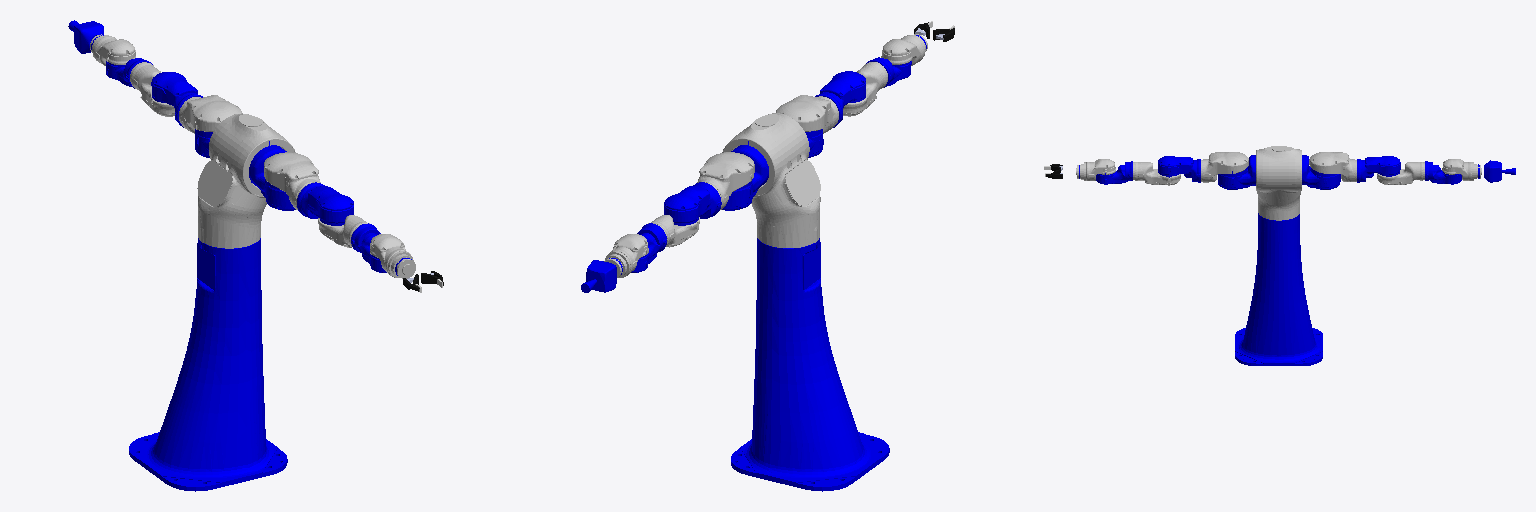
--- Render facts (derived) ---
Views: 3 orthographic renders of the robot side by side, from view 1: azimuth 30°, elevation 25°; view 2: azimuth 150°, elevation 25°; view 3: azimuth 270°, elevation 25°.
Robot: sda10f — 34 links, 33 joints (15 revolute, 18 fixed); root link base; default pose: every joint at zero.
Visible links, largest first — view 1: base_link, torso_link_b1, arm_right_link_2_l, arm_right_link_3_e, arm_left_link_2_l, arm_right_link_6_b, arm_left_link_3_e, arm_right_link_1_s, arm_left_link_6_b, arm_left_link_4_u, arm_right_link_5_r, arm_right_link_4_u (+2 smaller); view 2: base_link, torso_link_b1, arm_left_link_2_l, arm_left_link_3_e, arm_right_link_2_l, arm_right_link_3_e, arm_left_link_1_s, arm_left_link_6_b, arm_right_link_6_b, arm_right_link_4_u, arm_left_link_5_r, onrobot_vgc10_base_link (+2 smaller); view 3: base_link, torso_link_b1, arm_right_link_2_l, arm_left_link_2_l, arm_left_link_3_e, arm_right_link_3_e, arm_left_link_1_s, arm_right_link_1_s, arm_right_link_4_u, arm_left_link_4_u, arm_right_link_6_b, arm_left_link_6_b.
Boxes of the visible links, box(x1,y1,x2,y2) form: base_link: box(129, 238, 287, 491); torso_link_b1: box(197, 113, 295, 248); arm_right_link_2_l: box(264, 152, 320, 209); arm_right_link_3_e: box(297, 182, 353, 225); arm_left_link_2_l: box(179, 95, 241, 133); arm_right_link_6_b: box(370, 234, 415, 278); arm_left_link_3_e: box(151, 72, 202, 127); arm_right_link_1_s: box(249, 141, 295, 210); arm_left_link_6_b: box(90, 34, 135, 65); arm_left_link_4_u: box(130, 62, 174, 116); arm_right_link_5_r: box(351, 223, 386, 272); arm_right_link_4_u: box(318, 215, 369, 247); base_link: box(731, 238, 889, 491); torso_link_b1: box(722, 113, 820, 247); arm_left_link_2_l: box(697, 152, 754, 209); arm_left_link_3_e: box(664, 182, 721, 225); arm_right_link_2_l: box(776, 95, 838, 133); arm_right_link_3_e: box(815, 71, 865, 127); arm_left_link_1_s: box(722, 141, 768, 210); arm_left_link_6_b: box(604, 234, 648, 277); arm_right_link_6_b: box(881, 34, 927, 65); arm_right_link_4_u: box(843, 62, 887, 116); arm_left_link_5_r: box(631, 223, 666, 272); onrobot_vgc10_base_link: box(586, 260, 616, 292); base_link: box(1235, 213, 1322, 365); torso_link_b1: box(1256, 146, 1301, 220); arm_right_link_2_l: box(1201, 152, 1248, 182); arm_left_link_2_l: box(1309, 152, 1356, 181); arm_left_link_3_e: box(1357, 156, 1400, 182); arm_right_link_3_e: box(1158, 156, 1200, 182); arm_left_link_1_s: box(1302, 155, 1340, 189); arm_right_link_1_s: box(1218, 155, 1255, 189); arm_right_link_4_u: box(1133, 162, 1180, 185); arm_left_link_4_u: box(1377, 162, 1424, 184); arm_right_link_6_b: box(1076, 159, 1115, 180); arm_left_link_6_b: box(1442, 159, 1481, 180).
Bounding box of the posed robot: 0.5648 × 2.67 × 1.34 m (x, y, z).
Meshes: 16 distinct files referenced, 26 mesh visuals loaded (15 binary STL); not drawn: 1 (reference not matched to a file when rendering).

robot.urdf — sda10f:
<?xml version="1.0" ?>
<!-- =================================================================================== -->
<!-- |    This document was autogenerated by xacro from sda10f_uni_kin_ref_kin_macro_newKin.xacro | -->
<!-- |    EDITING THIS FILE BY HAND IS NOT RECOMMENDED                                 | -->
<!-- =================================================================================== -->
<robot name="sda10f" xmlns:xacro="http://ros.org/wiki/xacro">
  <!-- link list -->
	<mujoco> <compiler meshdir="meshes" balanceinertia="true" discardvisual="false"/> </mujoco>

  <link name="base">
  </link>

  <joint name="base_joint" type="fixed">
    <parent link="base"/>
    <child link="base_link"/>
  </joint>

  <link name="base_link">
    <visual>
      <geometry>
        <mesh filename="motoman_config/updated_obj_urdf/sda10f_description/meshes/sda10f/visual/motoman_base.stl"/>
      </geometry>
      <material name="blue">
        <color rgba="0 0 1 1"/>
      </material>
    </visual>
    <collision>
      <geometry>
        <mesh filename="motoman_config/updated_obj_urdf/sda10f_description/meshes/sda10f/collision/motoman_base.stl"/>
      </geometry>
      <material name="yellow">
        <color rgba="0 1 1 1"/>
      </material>
    </collision>
    <inertial>
    <origin xyz="0.59411730 0.00220938 0.06245062"/>
    <mass value="0.11690470"/>
    <inertia ixx="0.00301106" ixy="-0.00000002" ixz="-0.00069198" iyy="0.00812166" iyz="0.00000006" izz="0.00804492"/>
    </inertial>
  </link>

  <!-- joint list -->
  <!-- <joint name="torso_joint_b1" type="revolute"> -->
  <joint name="torso_joint_b1" type="revolute">
    <parent link="base_link"/>
    <child link="torso_link_b1"/>
    <origin rpy="0 0 0" xyz="0.09257 0 0.877"/>
    <axis xyz="0 0 1"/>
    <limit effort="100" lower="-1.58" upper="1.58" velocity="2.26"/>
    <!-- <limit effort="100" lower="-2.9570" upper="2.9570" velocity="2.26"/> -->
    <!-- <limit effort="100" lower="-0.0001" upper="0.0001" velocity="2.26"/> -->
  </joint>
  <!-- end of joint list -->

  <link name="torso_link_b1">
    <visual>
      <origin rpy="0 0 0" xyz="0 0 0"/>
      <geometry>
        <mesh filename="motoman_config/updated_obj_urdf/sda10f_description/meshes/sda10f/visual/motoman_axis_b1.stl"/>
      </geometry>
      <material name="silver">
        <color rgba="0.8 0.8 0.8 1"/>
      </material>
    </visual>
    <collision>
      <origin rpy="0 0 0" xyz="0 0 0"/>
      <geometry>
        <mesh filename="motoman_config/updated_obj_urdf/sda10f_description/meshes/sda10f/collision/motoman_axis_b1_remeshed.stl"/>
        <!-- <mesh filename="sda10f_description/meshes/sda10f/collision/motoman_axis_b1.stl"/> -->
      </geometry>
      <material name="yellow"/>
    </collision>
    <inertial>
    <origin xyz="0.29769593 -0.00048507 0.07556016"/>
    <mass value="0.02557033"/>
    <inertia ixx="0.00027808" ixy="-0.00000000" ixz="-0.00009991" iyy="0.00050765" iyz="0.00000000" izz="0.00047731"/>
    </inertial>
  </link>

  <link name="arm_left_link_1_s">
    <visual>
      <origin rpy="0 0 0" xyz="0 0 0"/>
      <geometry>
        <mesh filename="motoman_config/updated_obj_urdf/sda10f_description/meshes/sda10f/visual/motoman_axis_s.stl"/>
        <!-- <mesh filename="sda10f_description/meshes/sda10f/visual/motoman_axis_s.stl"/> -->
      </geometry>
      <material name="blue"/>
      <!-- <material name="blue">
        <color rgba="0.65 0.65 0.65 1"/>
      </material> -->
    </visual>
    <collision>
      <origin rpy="0 0 0" xyz="0 0 0"/>
      <geometry>
        <mesh filename="motoman_config/updated_obj_urdf/sda10f_description/meshes/sda10f/collision/motoman_axis_s.stl"/>
        <!-- <mesh filename="sda10f_description/meshes/sda10f/collision/motoman_axis_s.stl"/> -->
      </geometry>
      <material name="yellow"/>
    </collision>
    <inertial>
    <origin xyz="-0.19899234 -0.05062831 -0.00088638"/>
    <mass value="0.00736469"/>
    <inertia ixx="0.00002919" ixy="-0.00000467" ixz="-0.00000000" iyy="0.00006572" iyz="0.00000002" izz="0.00006631"/>
    </inertial>
  </link>
  <link name="arm_left_link_2_l">
    <visual>
      <origin rpy="0 0 0" xyz="0 0 0"/>
      <geometry>
        <mesh filename="motoman_config/updated_obj_urdf/sda10f_description/meshes/sda10f/visual/motoman_axis_l.stl"/>
        <!-- <mesh filename="sda10f_description/meshes/sda10f/visual/motoman_axis_l.stl"/> -->
      </geometry>
      <material name="silver"/>
    </visual>
    <collision>
      <origin rpy="0 0 0" xyz="0 0 0"/>
      <geometry>
        <mesh filename="motoman_config/updated_obj_urdf/sda10f_description/meshes/sda10f/collision/motoman_axis_l.stl"/>
        <!-- <mesh filename="sda10f_description/meshes/sda10f/collision/motoman_axis_l.stl"/> -->
      </geometry>
      <material name="yellow"/>
    </collision>
    <inertial>
    <origin xyz="0.00687143 0.01345170 0.00026218"/>
    <mass value="0.00447593"/>
    <inertia ixx="0.00003199" ixy="0.00000585" ixz="-0.00000000" iyy="0.00001378" iyz="0.00000000" izz="0.00003068"/>
    </inertial>
  </link>
  <link name="arm_left_link_3_e">
    <visual>
      <origin rpy="0 0 0" xyz="0 0 0"/>
      <geometry>
        <mesh filename="motoman_config/updated_obj_urdf/sda10f_description/meshes/sda10f/visual/motoman_axis_e.stl"/>
        <!-- <mesh filename="sda10f_description/meshes/sda10f/visual/motoman_axis_e.stl"/> -->
      </geometry>
      <material name="blue"/>
    </visual>
    <collision>
      <origin rpy="0 0 0" xyz="0 0 0"/>
      <geometry>
        <mesh filename="motoman_config/updated_obj_urdf/sda10f_description/meshes/sda10f/collision/motoman_axis_e.stl"/>
        <!-- <mesh filename="sda10f_description/meshes/sda10f/collision/motoman_axis_e.stl"/> -->
      </geometry>
      <material name="yellow"/>
    </collision>
    <inertial>
    <origin xyz="-0.14699799 0.03928457 -0.00115009"/>
    <mass value="0.00344203"/>
    <inertia ixx="0.00000816" ixy="0.00000154" ixz="-0.00000000" iyy="0.00001912" iyz="0.00000000" izz="0.00001927"/>
    </inertial>
  </link>
  <link name="arm_left_link_4_u">
    <visual>
      <origin rpy="0 0 0" xyz="0 0 0"/>
      <geometry>
        <mesh filename="motoman_config/updated_obj_urdf/sda10f_description/meshes/sda10f/visual/motoman_axis_u.stl"/>
        <!-- <mesh filename="sda10f_description/meshes/sda10f/visual/motoman_axis_u.stl"/> -->
      </geometry>
      <material name="silver"/>
    </visual>
    <collision>
      <origin rpy="0 0 0" xyz="0 0 0"/>
      <geometry>
        <mesh filename="motoman_config/updated_obj_urdf/sda10f_description/meshes/sda10f/collision/motoman_axis_u.stl"/>
        <!-- <mesh filename="sda10f_description/meshes/sda10f/collision/motoman_axis_u.stl"/> -->
      </geometry>
      <material name="yellow"/>
    </collision>
    <inertial>
    <origin xyz="-0.01491214 0.04719666 -0.00082991"/>
    <mass value="0.00301532"/>
    <inertia ixx="0.00002075" ixy="-0.00000241" ixz="0.00000001" iyy="0.00000557" iyz="-0.00000003" izz="0.00002043"/>
    </inertial>
  </link>
  <link name="arm_left_link_5_r">
    <visual>
      <origin rpy="0 0 0" xyz="0 0 0"/>
      <geometry>
        <mesh filename="motoman_config/updated_obj_urdf/sda10f_description/meshes/sda10f/visual/motoman_axis_r.stl"/>
        <!-- <mesh filename="sda10f_description/meshes/sda10f/visual/motoman_axis_r.stl"/> -->
      </geometry>
      <material name="blue"/>
    </visual>
    <collision>
      <origin rpy="0 0 0" xyz="0 0 0"/>
      <geometry>
        <mesh filename="motoman_config/updated_obj_urdf/sda10f_description/meshes/sda10f/collision/motoman_axis_r.stl"/>
        <!-- <mesh filename="sda10f_description/meshes/sda10f/collision/motoman_axis_r.stl"/> -->
      </geometry>
      <material name="yellow"/>
    </collision>
    <inertial>
    <origin xyz="-0.11762401 -0.03128507 -0.00026296"/>
    <mass value="0.00213955"/>
    <inertia ixx="0.00000371" ixy="-0.00000072" ixz="-0.00000002" iyy="0.00000856" iyz="-0.00000001" izz="0.00000873"/>
    </inertial>
  </link>
  <link name="arm_left_link_6_b">
    <visual>
      <origin rpy="0 0 0" xyz="0 0 0"/>
      <geometry>
        <mesh filename="motoman_config/updated_obj_urdf/sda10f_description/meshes/sda10f/visual/motoman_axis_b.stl"/>
        <!-- <mesh filename="sda10f_description/meshes/sda10f/visual/motoman_axis_b.stl"/> -->
      </geometry>
      <material name="silver"/>
    </visual>
    <collision>
      <origin rpy="0 0 0" xyz="0 0 0"/>
      <geometry>
        <mesh filename="motoman_config/updated_obj_urdf/sda10f_description/meshes/sda10f/collision/motoman_axis_b_remeshed.stl"/>
        <!-- <mesh filename="sda10f_description/meshes/sda10f/collision/motoman_axis_b.stl"/> -->
      </geometry>
      <material name="yellow"/>
    </collision>
    <inertial>
    <origin xyz="0.01254451 0.02357485 -0.00200508"/>
    <mass value="0.00182883"/>
    <inertia ixx="0.00000703" ixy="0.00000103" ixz="0.00000000" iyy="0.00000281" iyz="-0.00000000" izz="0.00000709"/>
    </inertial>
  </link>
  <link name="arm_left_link_7_t">
    <visual>
      <geometry>
        <mesh filename="motoman_config/updated_obj_urdf/sda10f_description/meshes/sda10f/visual/motoman_axis_t.stl"/>
        <!-- <mesh filename="sda10f_description/meshes/sda10f/visual/motoman_axis_t.stl"/> -->
      </geometry>
      <material name="blue"/>
    </visual>
    <collision>
      <geometry>
        <mesh filename="motoman_config/updated_obj_urdf/sda10f_description/meshes/sda10f/collision/motoman_axis_t.stl"/>
        <!-- <mesh filename="sda10f_description/meshes/sda10f/collision/motoman_axis_t.stl"/> -->
      </geometry>
      <material name="yellow"/>
    </collision>
  </link>
  <link name="arm_left_link_tool0"/>

  <joint name="arm_left_joint_1_s" type="revolute">
    <parent link="torso_link_b1"/>
    <child link="arm_left_link_1_s"/>
     <origin rpy="1.57 0 0.0" xyz="0.09996 0.0375 0.32214"/>
    <axis xyz="0 0 -1.0"/>
    <limit effort="0" lower="-3.13" upper="3.13" velocity="2.95"/>
    <!-- <dynamics damping="3.5"/> -->
  </joint>
  <joint name="arm_left_joint_2_l" type="revolute">
    <parent link="arm_left_link_1_s"/>
    <child link="arm_left_link_2_l"/>
    <origin rpy="-1.57 0 0" xyz="0 0.0427 -0.2255"/>
    <axis xyz="0 0 -1.0"/>
    <limit effort="0" lower="-1.90" upper="1.90" velocity="2.95"/>
    <!-- <dynamics damping="3.5"/> -->
  </joint>
  <joint name="arm_left_joint_3_e" type="revolute">
    <parent link="arm_left_link_2_l"/>
    <child link="arm_left_link_3_e"/>
    <origin rpy="1.57 0 0" xyz="0 0.1790 -0.0454"/>
    <axis xyz="0 0 -1.0"/>
    <limit effort="0" lower="-2.95" upper="2.95" velocity="2.95"/>
    <!-- <dynamics damping="3.5"/> -->
  </joint>
  <joint name="arm_left_joint_4_u" type="revolute">
    <parent link="arm_left_link_3_e"/>
    <child link="arm_left_link_4_u"/>
    <origin rpy="-1.57 0 0" xyz="0 -0.0175 -0.181"/>
    <axis xyz="0 0 1"/>
    <limit effort="0" lower="-2.36" upper="2.36" velocity="2.95"/>
    <!-- <dynamics damping="3.5"/> -->
  </joint>
  <joint name="arm_left_joint_5_r" type="revolute">
    <parent link="arm_left_link_4_u"/>
    <child link="arm_left_link_5_r"/>
    <origin rpy="1.57 0 0" xyz="0 0.2036 0.0155"/>
    <axis xyz="0 0 1"/>
    <limit effort="0" lower="-3.13" upper="3.13" velocity="3.48"/>
    <!-- <dynamics damping="3.5"/> -->
  </joint>
  <joint name="arm_left_joint_6_b" type="revolute">
    <parent link="arm_left_link_5_r"/>
    <child link="arm_left_link_6_b"/>
    <origin rpy="-1.57 0 0" xyz="0 0.0130 -0.155"/>
    <axis xyz="0 0 1"/>
    <limit effort="0" lower="-1.90" upper="1.90" velocity="3.48"/>
    <!-- <dynamics damping="3.5"/> -->
  </joint>
  <joint name="arm_left_joint_7_t" type="revolute">
    <parent link="arm_left_link_6_b"/>
    <child link="arm_left_link_7_t"/>
     <origin rpy="1.57 0 0" xyz="0 0.144 -0.015"/>
    <axis xyz="0 0 1"/>
    <limit effort="0" lower="-3.13" upper="3.13" velocity="6.97"/>
    <!-- <dynamics damping="3.5"/> -->
  </joint>
  <joint name="arm_left_joint_tool0" type="fixed">
    <!-- the following line is modified by Rui-->
    <!-- <origin rpy="0 0 -3.13" xyz="0 0 -0.09"/> -->
    <origin rpy="0 0 -3.13" xyz="0 0 -0.035"/>
    <!-- <origin rpy="0 0 -3.13" xyz="0 0 -0.07"/> -->
    <!-- <origin rpy="0 0 -3.13" xyz="0 0 -0.025"/> -->
    <!-- <origin rpy="0 0 -3.13" xyz="0 0 -0.0325"/> -->
    <!-- <origin rpy="0 0 -3.13" xyz="0 0 0.0"/> -->
    <parent link="arm_left_link_7_t"/>
    <child link="arm_left_link_tool0"/>
    <!-- <dynamics damping="3.5"/> -->
  </joint>
  <!-- end of joint list -->
  <link name="arm_right_link_1_s">
    <visual>
      <origin rpy="0 0 0" xyz="0 0 0"/>
      <geometry>
        <mesh filename="motoman_config/updated_obj_urdf/sda10f_description/meshes/sda10f/visual/motoman_axis_s.stl"/>
        <!-- <mesh filename="sda10f_description/meshes/sda10f/visual/motoman_axis_s.stl"/> -->
      </geometry>
      <material name="blue">
        <!-- <color rgba="0.65 0.65 0.65 1"/> -->
      </material>
    </visual>
    <collision>
      <origin rpy="0 0 0" xyz="0 0 0"/>
      <geometry>
        <mesh filename="motoman_config/updated_obj_urdf/sda10f_description/meshes/sda10f/collision/motoman_axis_s.stl"/>
        <!-- <mesh filename="sda10f_description/meshes/sda10f/collision/motoman_axis_s.stl"/> -->
      </geometry>
      <material name="yellow"/>
    </collision>
    <inertial>
    <origin xyz="-0.19899234 -0.05062831 -0.00088638"/>
    <mass value="0.00736469"/>
    <inertia ixx="0.00002919" ixy="-0.00000467" ixz="-0.00000000" iyy="0.00006572" iyz="0.00000002" izz="0.00006631"/>
    </inertial>
  </link>
  <link name="arm_right_link_2_l">
    <visual>
      <origin rpy="0 0 0" xyz="0 0 0"/>
      <geometry>
        <mesh filename="motoman_config/updated_obj_urdf/sda10f_description/meshes/sda10f/visual/motoman_axis_l.stl"/>
        <!-- <mesh filename="sda10f_description/meshes/sda10f/visual/motoman_axis_l.stl"/> -->
      </geometry>
      <material name="silver"/>
    </visual>
    <collision>
      <origin rpy="0 0 0" xyz="0 0 0"/>
      <geometry>
        <mesh filename="motoman_config/updated_obj_urdf/sda10f_description/meshes/sda10f/collision/motoman_axis_l.stl"/>
        <!-- <mesh filename="sda10f_description/meshes/sda10f/collision/motoman_axis_l.stl"/> -->
      </geometry>
      <material name="yellow"/>
    </collision>
    <inertial>
    <origin xyz="0.00687143 0.01345170 0.00026218"/>
    <mass value="0.00447593"/>
    <inertia ixx="0.00003199" ixy="0.00000585" ixz="-0.00000000" iyy="0.00001378" iyz="0.00000000" izz="0.00003068"/>
    </inertial>
  </link>
  <link name="arm_right_link_3_e">
    <visual>
      <origin rpy="0 0 0" xyz="0 0 0"/>
      <geometry>
        <mesh filename="motoman_config/updated_obj_urdf/sda10f_description/meshes/sda10f/visual/motoman_axis_e.stl"/>
        <!-- <mesh filename="sda10f_description/meshes/sda10f/visual/motoman_axis_e.stl"/> -->
      </geometry>
      <material name="blue"/>
    </visual>
    <collision>
      <origin rpy="0 0 0" xyz="0 0 0"/>
      <geometry>
        <mesh filename="motoman_config/updated_obj_urdf/sda10f_description/meshes/sda10f/collision/motoman_axis_e.stl"/>
        <!-- <mesh filename="sda10f_description/meshes/sda10f/collision/motoman_axis_e.stl"/> -->
      </geometry>
      <material name="yellow"/>
    </collision>
    <inertial>
    <origin xyz="-0.14699799 0.03928457 -0.00115009"/>
    <mass value="0.00344203"/>
    <inertia ixx="0.00000816" ixy="0.00000154" ixz="-0.00000000" iyy="0.00001912" iyz="0.00000000" izz="0.00001927"/>
    </inertial>
  </link>
  <link name="arm_right_link_4_u">
    <visual>
      <origin rpy="0 0 0" xyz="0 0 0"/>
      <geometry>
        <mesh filename="motoman_config/updated_obj_urdf/sda10f_description/meshes/sda10f/visual/motoman_axis_u.stl"/>
        <!-- <mesh filename="sda10f_description/meshes/sda10f/visual/motoman_axis_u.stl"/> -->
      </geometry>
      <material name="silver"/>
    </visual>
    <collision>
      <origin rpy="0 0 0" xyz="0 0 0"/>
      <geometry>
        <mesh filename="motoman_config/updated_obj_urdf/sda10f_description/meshes/sda10f/collision/motoman_axis_u.stl"/>
        <!-- <mesh filename="sda10f_description/meshes/sda10f/collision/motoman_axis_u.stl"/> -->
      </geometry>
      <material name="yellow"/>
    </collision>
    <inertial>
    <origin xyz="-0.01491214 0.04719666 -0.00082991"/>
    <mass value="0.00301532"/>
    <inertia ixx="0.00002075" ixy="-0.00000241" ixz="0.00000001" iyy="0.00000557" iyz="-0.00000003" izz="0.00002043"/>
    </inertial>
  </link>
  <link name="arm_right_link_5_r">
    <visual>
      <origin rpy="0 0 0" xyz="0 0 0"/>
      <geometry>
        <mesh filename="motoman_config/updated_obj_urdf/sda10f_description/meshes/sda10f/visual/motoman_axis_r.stl"/>
        <!-- <mesh filename="sda10f_description/meshes/sda10f/visual/motoman_axis_r.stl"/> -->
      </geometry>
      <material name="blue"/>
    </visual>
    <collision>
      <origin rpy="0 0 0" xyz="0 0 0"/>
      <geometry>
        <mesh filename="motoman_config/updated_obj_urdf/sda10f_description/meshes/sda10f/collision/motoman_axis_r.stl"/>
        <!-- <mesh filename="sda10f_description/meshes/sda10f/collision/motoman_axis_r.stl"/> -->
      </geometry>
      <material name="yellow"/>
    </collision>
    <inertial>
    <origin xyz="-0.11762401 -0.03128507 -0.00026296"/>
    <mass value="0.00213955"/>
    <inertia ixx="0.00000371" ixy="-0.00000072" ixz="-0.00000002" iyy="0.00000856" iyz="-0.00000001" izz="0.00000873"/>
    </inertial>
  </link>
  <link name="arm_right_link_6_b">
    <visual>
      <origin rpy="0 0 0" xyz="0 0 0"/>
      <geometry>
        <mesh filename="motoman_config/updated_obj_urdf/sda10f_description/meshes/sda10f/visual/motoman_axis_b.stl"/>
        <!-- <mesh filename="sda10f_description/meshes/sda10f/visual/motoman_axis_b.stl"/> -->
      </geometry>
      <material name="silver"/>
    </visual>
    <collision>
      <origin rpy="0 0 0" xyz="0 0 0"/>
      <geometry>
        <mesh filename="motoman_config/updated_obj_urdf/sda10f_description/meshes/sda10f/collision/motoman_axis_b_remeshed.stl"/>
        <!-- <mesh filename="sda10f_description/meshes/sda10f/collision/motoman_axis_b.stl"/> -->
      </geometry>
      <material name="yellow"/>
    </collision>
    <inertial>
    <origin xyz="0.01254451 0.02357485 -0.00200508"/>
    <mass value="0.00182883"/>
    <inertia ixx="0.00000703" ixy="0.00000103" ixz="0.00000000" iyy="0.00000281" iyz="-0.00000000" izz="0.00000709"/>
    </inertial>
  </link>
  <link name="arm_right_link_7_t">
    <visual>
      <geometry>
        <mesh filename="motoman_config/updated_obj_urdf/sda10f_description/meshes/sda10f/visual/motoman_axis_t.stl"/>
        <!-- <mesh filename="sda10f_description/meshes/sda10f/visual/motoman_axis_t.stl"/> -->
      </geometry>
      <material name="blue"/>
    </visual>
    <collision>
      <geometry>
        <mesh filename="motoman_config/updated_obj_urdf/sda10f_description/meshes/sda10f/collision/motoman_axis_t.stl"/>
        <!-- <mesh filename="sda10f_description/meshes/sda10f/collision/motoman_axis_t.stl"/> -->
      </geometry>
      <material name="yellow"/>
    </collision>
  </link>
  <link name="arm_right_link_tool0"/>

  <joint name="arm_right_joint_1_s" type="revolute">
    <parent link="torso_link_b1"/>
    <child link="arm_right_link_1_s"/>
    <origin rpy="1.57 0 -3.14" xyz="0.09996 -0.0375 0.32214"/>
    <axis xyz="0 0 1.0"/>
    <limit effort="0" lower="-3.13" upper="3.13" velocity="2.95"/>
  </joint>
  <joint name="arm_right_joint_2_l" type="revolute">
    <parent link="arm_right_link_1_s"/>
    <child link="arm_right_link_2_l"/>
    <origin rpy="-1.57 0 0" xyz="0 0.0427 -0.2255"/>
    <axis xyz="0 0 1.0"/>
    <limit effort="0" lower="-1.90" upper="1.90" velocity="2.95"/>
  </joint>
  <joint name="arm_right_joint_3_e" type="revolute">
    <parent link="arm_right_link_2_l"/>
    <child link="arm_right_link_3_e"/>
    <origin rpy="1.57 0 0" xyz="0 0.1790 -0.0454"/>
    <axis xyz="0 0 1.0"/>
    <limit effort="0" lower="-2.95" upper="2.95" velocity="2.95"/>
  </joint>
  <joint name="arm_right_joint_4_u" type="revolute">
    <parent link="arm_right_link_3_e"/>
    <child link="arm_right_link_4_u"/>
    <origin rpy="-1.57 0 0" xyz="0 -0.0175 -0.181"/>
    <axis xyz="0 0 -1"/>
    <limit effort="0" lower="-2.36" upper="2.36" velocity="2.95"/>
  </joint>
  <joint name="arm_right_joint_5_r" type="revolute">
    <parent link="arm_right_link_4_u"/>
    <child link="arm_right_link_5_r"/>
    <origin rpy="1.57 0 0" xyz="0 0.2036 0.0155"/>
    <axis xyz="0 0 -1"/>
    <limit effort="0" lower="-3.13" upper="3.13" velocity="3.48"/>
  </joint>
  <joint name="arm_right_joint_6_b" type="revolute">
    <parent link="arm_right_link_5_r"/>
    <child link="arm_right_link_6_b"/>
    <origin rpy="-1.57 0 0" xyz="0 0.0130 -0.155"/>
    <axis xyz="0 0 -1"/>
    <limit effort="0" lower="-1.90" upper="1.90" velocity="3.48"/>
  </joint>
  <joint name="arm_right_joint_7_t" type="revolute">
    <parent link="arm_right_link_6_b"/>
    <child link="arm_right_link_7_t"/>
    <origin rpy="1.57 0 0" xyz="0 0.144 -0.015"/>
    <axis xyz="0 0 -1"/>
    <limit effort="0" lower="-3.13" upper="3.13" velocity="6.97"/>
  </joint>
  <joint name="arm_right_joint_tool0" type="fixed">
    <!-- the following line is modified by Rui-->
    <!-- <origin rpy="0 0 -3.13" xyz="0 0 -0.025"/> -->
    <!-- the following line is modified by Yinglong-->
    <origin rpy="0 0 -3.13" xyz="0 0 -0.055"/>    
    <!-- <origin rpy="0 0 -3.13" xyz="0 0 -0.0325"/> -->
    <!-- <origin rpy="0 0 -3.13" xyz="0 0 0.0"/> origin -->
    <parent link="arm_right_link_7_t"/>
    <child link="arm_right_link_tool0"/>
  </joint>
  <!-- Links -->

  <joint name="motoman_left_joint_pre_ee" type="fixed">
    <parent link="arm_left_link_tool0"/>
    <child link="onrobot_vgc10_base_link"/>
    <origin rpy="3.1416 0 0" xyz="0 0 0.0"/>
    <!-- <origin rpy="3.141 0 0" xyz="0 0 -0.07"/> -->
    <!-- <origin rpy="3.141 0 0" xyz="0 0 -0.028"/> -->
  </joint>


    <link name="onrobot_vgc10_base_link">
      <inertial>
        <origin xyz="0.0 0.0 0.0" rpy="0 0 0" />
        <mass value="0.6" />
        <inertia ixx="1.0E-03" ixy="1.0E-06" ixz="1.0E-06" iyy="1.0E-03" iyz="1.0E-06" izz="1.0E-03" />
      </inertial>
      <visual>
        <origin xyz="0 0 0" rpy="0 0 0" />
        <geometry>
          <mesh filename="motoman_config/updated_obj_urdf/onrobot_vgc10/visual/base_link.stl" />
        </geometry>
        <material name="blue">
          <color rgba="0 0 1 1" />
        </material>        
      </visual>
      <collision>
        <origin xyz="0 0 0" rpy="0 0 0" />
        <geometry>
          <mesh filename="motoman_config/updated_obj_urdf/onrobot_vgc10/collision/base_link.stl" />
        </geometry>
      </collision>
    <!-- <inertial> -->
    <!-- <origin xyz="0.04835756 -0.00001145 -0.00005143"/> -->
    <!-- <mass value="0.00081386"/> -->
    <!-- <inertia ixx="0.00000110" ixy="0.00000000" ixz="0.00000000" iyy="0.00000115" iyz="-0.00000000" izz="0.00000115"/> -->
    <!-- </inertial> -->      
    </link>

    <link name="onrobot_vgc10_suction">
      <inertial>
        <origin xyz="0.0 0.0 0.0" rpy="0 0 0" />
        <mass value="0.2" />
        <inertia ixx="1.0E-03" ixy="1.0E-06" ixz="1.0E-06" iyy="1.0E-03" iyz="1.0E-06" izz="1.0E-03" />
      </inertial>
      <visual>
        <origin xyz="0 0 0" rpy="0 0 0" />
        <geometry>
          <mesh filename="motoman_config/updated_obj_urdf/onrobot_vgc10/visual/suction_cup.stl" />
        </geometry>
        <material name="blue">
          <color rgba="0 0 1 1" />
        </material>        
      </visual>
      <collision>
        <origin xyz="0 0 0" rpy="0 0 0" />
        <geometry>
          <mesh filename="motoman_config/updated_obj_urdf/onrobot_vgc10/collision/suction_cup.stl" />
        </geometry>
      </collision>
    <!-- <inertial> -->
    <!-- <origin xyz="0.05012417 -0.00023699 -0.00003326"/> -->
    <!-- <mass value="0.00005331"/> -->
    <!-- <inertia ixx="0.00000001" ixy="0.00000000" ixz="0.00000000" iyy="0.00000003" iyz="-0.00000000" izz="0.00000003"/> -->
    <!-- </inertial> -->
    </link>
    <joint name="onrobot_vgc10_suction_joint" type="fixed">
      <origin xyz="0 0 0.094901" rpy="0 0 0" />
      <parent link="onrobot_vgc10_base_link" />
      <child link="onrobot_vgc10_suction" />
      <axis xyz="1 0 0" />
    </joint>

  <joint name="motoman_left_joint_ee" type="fixed">
    <parent link="onrobot_vgc10_base_link"/>
    <child link="motoman_left_ee"/>
    <origin rpy="0 0 0" xyz="0 0 0.18"/>
    <!-- <origin rpy="0 0 0" xyz="0 0 0.3015"/> -->
    <!-- <origin rpy="0 0 0" xyz="0 0 0.068"/> -->
    <!-- <origin rpy="0 0 0" xyz="0 0 0"/> -->
  </joint>
  <link name="motoman_left_ee">
    </link>

  <joint name="motoman_right_joint_pre_ee" type="fixed">
    <parent link="arm_right_link_tool0"/>
    <!-- <child link="motoman_right_hand"/> -->
    <child link="robotiq_arg2f_base_link"/>
    <origin rpy="3.1416 0 1.57" xyz="0 0 0.0"/>
    <!-- <origin rpy="3.1416 0 0" xyz="0 0 0.0"/> -->
    <!-- <origin rpy="3.141 0 0" xyz="0 0 -0.035"/> -->
  </joint>

  <!-- <link name="motoman_right_hand">
    <visual>
      <geometry>
        <mesh filename="motoman_config/updated_obj_urdf/sda10f_description/meshes/sda10f/visual/modelO42.stl"/>
      </geometry>
      <material name="blue">
        <color rgba="0 0 1 1"/>
      </material>
    </visual>
    <collision>
      <geometry>
        <mesh filename="motoman_config/updated_obj_urdf/sda10f_description/meshes/sda10f/collision/modelO42.stl"/>
      </geometry>
      <material name="yellow">
        <color rgba="0 1 1 1"/>
      </material>
    </collision>
  </link> -->

  <joint name="motoman_right_joint_ee" type="fixed">
    <parent link="robotiq_arg2f_base_link"/>
    <!-- <parent link="motoman_right_hand"/> -->
    <child link="motoman_right_ee"/>
    <origin rpy="0 0 0" xyz="0 0 0.135"/>
  </joint>
  <link name="motoman_right_ee"></link>


  <link name="robotiq_arg2f_base_link">
    <!-- <inertial>
      <origin rpy="0 0 0" xyz="8.625E-08 -4.6583E-06 0.03145"/>
      <mass value="0.22652"/>
      <inertia ixx="0.00020005" ixy="-4.2442E-10" ixz="-2.9069E-10" iyy="0.00017832" iyz="-3.4402E-08" izz="0.00013478"/>
    </inertial> -->
    <visual>
      <origin rpy="0 0 0" xyz="0 0 0"/>
      <geometry>
        <mesh filename="motoman_config/updated_obj_urdf/robotiq_85/visual/robotiq_arg2f_85_base_link.stl" scale="0.001 0.001 0.001"/>
      </geometry>
      <material name="">
        <color rgba="0.1 0.1 0.1 1"/>
      </material>
    </visual>
    <collision>
      <origin rpy="0 0 0" xyz="0 0 0"/>
      <geometry>
        <mesh filename="motoman_config/updated_obj_urdf/robotiq_85/collision/robotiq_arg2f_base_link.stl"/>
      </geometry>
    </collision>
    <inertial>
    <origin xyz="0.04288860 -0.00153989 0.00016929"/>
    <mass value="0.00031045"/>
    <inertia ixx="0.00000020" ixy="-0.00000000" ixz="0.00000000" iyy="0.00000024" iyz="0.00000000" izz="0.00000028"/>
    </inertial>
  </link>
  <link name="left_outer_knuckle">
    <!--<inertial>
        <origin xyz="-0.000200000000003065 0.0199435877845359 0.0292245259211331" rpy="0 0 0" />
        <mass value="0.00853198276973456" />
        <inertia ixx="2.89328108496468E-06" ixy="-1.57935047237397E-19" ixz="-1.93980378593255E-19" iyy="1.86719750325683E-06" iyz="-1.21858577871576E-06" izz="1.21905238907251E-06" />
        </inertial> -->
    <visual>
      <origin rpy="0 0 0" xyz="0 0 0"/>
      <geometry>
        <mesh filename="motoman_config/updated_obj_urdf/robotiq_85/visual/robotiq_arg2f_85_outer_knuckle.stl" scale="0.001 0.001 0.001"/>
      </geometry>
      <material name="">
        <color rgba="0.792156862745098 0.819607843137255 0.933333333333333 1"/>
      </material>
    </visual>
    <collision>
      <origin rpy="0 0 0" xyz="0 0 0"/>
      <geometry>
        <mesh filename="motoman_config/updated_obj_urdf/robotiq_85/collision/robotiq_arg2f_85_outer_knuckle.stl" scale="0.001 0.001 0.001"/>
      </geometry>
    </collision>
    <inertial>
    <origin xyz="0.00000000 0.01959428 0.00167623"/>
    <mass value="0.00001294"/>
    <inertia ixx="0.00000000" ixy="0.00000000" ixz="0.00000000" iyy="0.00000000" iyz="-0.00000000" izz="0.00000000"/>
    </inertial>
  </link>
  <link name="left_outer_finger">
    <!--<inertial>
        <origin xyz="0.00030115855001899 0.0373907951953854 -0.0208027427000385" rpy="0 0 0" />
        <mass value="0.022614240507152" />
        <inertia ixx="1.52518312458174E-05" ixy="9.76583423954399E-10" ixz="-5.43838577022588E-10" iyy="6.17694243867776E-06" iyz="6.78636130740228E-06" izz="1.16494917907219E-05" />
        </inertial> -->
    <visual>
      <origin rpy="0 0 0" xyz="0 0 0"/>
      <geometry>
        <mesh filename="motoman_config/updated_obj_urdf/robotiq_85/visual/robotiq_arg2f_85_outer_finger.stl" scale="0.001 0.001 0.001"/>
      </geometry>
      <material name="">
        <color rgba="0.1 0.1 0.1 1"/>
      </material>
    </visual>
    <collision>
      <origin rpy="0 0 0" xyz="0 0 0"/>
      <geometry>
        <mesh filename="motoman_config/updated_obj_urdf/robotiq_85/collision/robotiq_arg2f_85_outer_finger.stl" scale="0.001 0.001 0.001"/>
      </geometry>
    </collision>
    <inertial>
    <origin xyz="0.00000000 0.00303447 0.02345961"/>
    <mass value="0.00001778"/>
    <inertia ixx="0.00000001" ixy="-0.00000000" ixz="-0.00000000" iyy="0.00000001" iyz="-0.00000000" izz="0.00000000"/>
    </inertial>
  </link>
  <link name="left_inner_finger">
    <!--<inertial>
        <origin xyz="0.000299999999999317 0.0160078233491243 -0.0136945669206257" rpy="0 0 0" />
        <mass value="0.0104003125914103" />
        <inertia ixx="2.71909453810972E-06" ixy="1.35402465472579E-21" ixz="-7.1817349065269E-22" iyy="7.69100314106116E-07" iyz="6.74715432769696E-07" izz="2.30315190420171E-06" />
        </inertial> -->
    <visual>
      <origin rpy="0 0 0" xyz="0 0 0"/>
      <geometry>
        <mesh filename="motoman_config/updated_obj_urdf/robotiq_85/visual/robotiq_arg2f_85_inner_finger.stl" scale="0.001 0.001 0.001"/>
      </geometry>
      <material name="">
        <color rgba="0.1 0.1 0.1 1"/>
      </material>
    </visual>
    <collision>
      <origin rpy="0 0 0" xyz="0 0 0"/>
      <geometry>
        <mesh filename="motoman_config/updated_obj_urdf/robotiq_85/collision/robotiq_arg2f_85_inner_finger.stl" scale="0.001 0.001 0.001"/>
      </geometry>
    </collision>
    <inertial>
    <origin xyz="0.00000000 -0.00782782 0.00265781"/>
    <mass value="0.00001319"/>
    <inertia ixx="0.00000000" ixy="0.00000000" ixz="-0.00000000" iyy="0.00000000" iyz="0.00000000" izz="0.00000000"/>
    </inertial>
  </link>
  <link name="left_inner_finger_pad">
    <visual>
      <origin rpy="0 0 0" xyz="0 0 0"/>
      <geometry>
        <box size="0.022 0.00635 0.0375"/>
      </geometry>
      <material name="">
        <color rgba="0.9 0.9 0.9 1"/>
      </material>
    </visual>
    <collision>
      <origin rpy="0 0 0" xyz="0 0 0"/>
      <geometry>
        <box size="0.022 0.00635 0.0375"/>
      </geometry>
      <material name="">
        <color rgba="0.9 0.0 0.0 1"/>
      </material>
    </collision>
    <inertial>
      <mass value="0.0001"/>
      <inertia ixx="0.0000001" ixy="0" ixz="0.0" iyy="0.0000001" iyz="0.0" izz="0.0000001"/>
    </inertial>
  </link>
  <link name="left_inner_knuckle">
    <!--<inertial>
        <origin xyz="0.000123011831763771 0.0507850843201817 0.00103968640075166" rpy="0 0 0" />
       <mass value="0.0271177346495152" />
        <inertia ixx="2.61910379223783E-05" ixy="-2.43616858946494E-07" ixz="-6.37789906117123E-09" iyy="2.8270243746167E-06" iyz="-5.37200748039765E-07" izz="2.83695868220296E-05" />
        </inertial> -->
    <visual>
      <origin rpy="0 0 0" xyz="0 0 0"/>
      <geometry>
        <mesh filename="motoman_config/updated_obj_urdf/robotiq_85/visual/robotiq_arg2f_85_inner_knuckle.stl" scale="0.001 0.001 0.001"/>
      </geometry>
      <material name="">
        <color rgba="0.1 0.1 0.1 1"/>
      </material>
    </visual>
    <collision>
      <origin rpy="0 0 0" xyz="0 0 0"/>
      <geometry>
        <mesh filename="motoman_config/updated_obj_urdf/robotiq_85/collision/robotiq_arg2f_85_inner_knuckle.stl" scale="0.001 0.001 0.001"/>
      </geometry>
    </collision>
<inertial>
  <origin xyz="-0.00000000 0.02072093 0.02448419"/>
  <mass value="0.00002731"/>
  <inertia ixx="0.00000001" ixy="0.00000000" ixz="0.00000000" iyy="0.00000001" iyz="-0.00000000" izz="0.00000001"/>
</inertial>
  </link>
  <link name="right_outer_knuckle">
    <!--<inertial>
        <origin xyz="-0.000200000000003065 0.0199435877845359 0.0292245259211331" rpy="0 0 0" />
        <mass value="0.00853198276973456" />
        <inertia ixx="2.89328108496468E-06" ixy="-1.57935047237397E-19" ixz="-1.93980378593255E-19" iyy="1.86719750325683E-06" iyz="-1.21858577871576E-06" izz="1.21905238907251E-06" />
        </inertial> -->
    <!-- <inertial>
      <mass value="0.00013"/>
      <inertia ixx="0.0000001" ixy="0.0000001" ixz="0.0000001" iyy="0.0000001" iyz="0.0000001" izz="0.0000001"/>
    </inertial> -->
    <visual>
      <origin rpy="0 0 0" xyz="0 0 0"/>
      <geometry>
        <mesh filename="motoman_config/updated_obj_urdf/robotiq_85/visual/robotiq_arg2f_85_outer_knuckle.stl" scale="0.001 0.001 0.001"/>
      </geometry>
      <material name="">
        <color rgba="0.792156862745098 0.819607843137255 0.933333333333333 1"/>
      </material>
    </visual>
    <collision>
      <origin rpy="0 0 0" xyz="0 0 0"/>
      <geometry>
        <mesh filename="motoman_config/updated_obj_urdf/robotiq_85/collision/robotiq_arg2f_85_outer_knuckle.stl" scale="0.001 0.001 0.001"/>
      </geometry>
    </collision>
    <inertial>
    <origin xyz="0.00000000 0.01959428 0.00167623"/>
    <mass value="0.00001294"/>
    <inertia ixx="0.00000000" ixy="0.00000000" ixz="0.00000000" iyy="0.00000000" iyz="-0.00000000" izz="0.00000000"/>
    </inertial>
  </link>
  <link name="right_outer_finger">
    <!--<inertial>
        <origin xyz="0.00030115855001899 0.0373907951953854 -0.0208027427000385" rpy="0 0 0" />
        <mass value="0.022614240507152" />
        <inertia ixx="1.52518312458174E-05" ixy="9.76583423954399E-10" ixz="-5.43838577022588E-10" iyy="6.17694243867776E-06" iyz="6.78636130740228E-06" izz="1.16494917907219E-05" />
        </inertial> -->
    <!-- <inertial>
      <mass value="0.00017"/>
      <inertia ixx="0.0000001" ixy="0.0000001" ixz="0.0000001" iyy="0.0000001" iyz="0.0000001" izz="0.0000001"/>
    </inertial> -->
    <visual>
      <origin rpy="0 0 0" xyz="0 0 0"/>
      <geometry>
        <mesh filename="motoman_config/updated_obj_urdf/robotiq_85/visual/robotiq_arg2f_85_outer_finger.stl" scale="0.001 0.001 0.001"/>
      </geometry>
      <material name="">
        <color rgba="0.1 0.1 0.1 1"/>
      </material>
    </visual>
    <collision>
      <origin rpy="0 0 0" xyz="0 0 0"/>
      <geometry>
        <mesh filename="motoman_config/updated_obj_urdf/robotiq_85/collision/robotiq_arg2f_85_outer_finger.stl" scale="0.001 0.001 0.001"/>
      </geometry>
    </collision>
    <inertial>
    <origin xyz="0.00000000 0.00303447 0.02345961"/>
    <mass value="0.00001778"/>
    <inertia ixx="0.00000001" ixy="-0.00000000" ixz="-0.00000000" iyy="0.00000001" iyz="-0.00000000" izz="0.00000000"/>
    </inertial>
  </link>
  <link name="right_inner_finger">
    <!--<inertial>
        <origin xyz="0.000299999999999317 0.0160078233491243 -0.0136945669206257" rpy="0 0 0" />
        <mass value="0.0104003125914103" />
        <inertia ixx="2.71909453810972E-06" ixy="1.35402465472579E-21" ixz="-7.1817349065269E-22" iyy="7.69100314106116E-07" iyz="6.74715432769696E-07" izz="2.30315190420171E-06" />
        </inertial> -->
    <visual>
      <origin rpy="0 0 0" xyz="0 0 0"/>
      <geometry>
        <mesh filename="motoman_config/updated_obj_urdf/robotiq_85/visual/robotiq_arg2f_85_inner_finger.stl" scale="0.001 0.001 0.001"/>
      </geometry>
      <material name="">
        <color rgba="0.1 0.1 0.1 1"/>
      </material>
    </visual>
    <collision>
      <origin rpy="0 0 0" xyz="0 0 0"/>
      <geometry>
        <mesh filename="motoman_config/updated_obj_urdf/robotiq_85/collision/robotiq_arg2f_85_inner_finger.stl" scale="0.001 0.001 0.001"/>
      </geometry>
    </collision>
    <inertial>
    <origin xyz="0.00000000 -0.00782782 0.00265781"/>
    <mass value="0.00001319"/>
    <inertia ixx="0.00000000" ixy="0.00000000" ixz="-0.00000000" iyy="0.00000000" iyz="0.00000000" izz="0.00000000"/>
    </inertial>    
  </link>
  <link name="right_inner_finger_pad">
    <visual>
      <origin rpy="0 0 0" xyz="0 0 0"/>
      <geometry>
        <box size="0.022 0.00635 0.0375"/>
      </geometry>
      <material name="">
        <color rgba="0.9 0.9 0.9 1"/>
      </material>
    </visual>
    <collision>
      <origin rpy="0 0 0" xyz="0 0 0"/>
      <geometry>
        <box size="0.022 0.00635 0.0375"/>
      </geometry>
      <material name="">
        <color rgba="0.9 0.0 0.0 1"/>
      </material>
    </collision>
    <!-- <inertial>
      <mass value="0.00013"/>
      <inertia ixx="0.0000001" ixy="0.0000001" ixz="0.0000001" iyy="0.0000001" iyz="0.0000001" izz="0.0000001"/>
    </inertial> -->
  </link>
  <link name="right_inner_knuckle">
    <!--<inertial>
        <origin xyz="0.000123011831763771 0.0507850843201817 0.00103968640075166" rpy="0 0 0" />
       <mass value="0.0271177346495152" />
        <inertia ixx="2.61910379223783E-05" ixy="-2.43616858946494E-07" ixz="-6.37789906117123E-09" iyy="2.8270243746167E-06" iyz="-5.37200748039765E-07" izz="2.83695868220296E-05" />
        </inertial> -->
    <visual>
      <origin rpy="0 0 0" xyz="0 0 0"/>
      <geometry>
        <mesh filename="motoman_config/updated_obj_urdf/robotiq_85/visual/robotiq_arg2f_85_inner_knuckle.stl" scale="0.001 0.001 0.001"/>
      </geometry>
      <material name="">
        <color rgba="0.1 0.1 0.1 1"/>
      </material>
    </visual>
    <collision>
      <origin rpy="0 0 0" xyz="0 0 0"/>
      <geometry>
        <mesh filename="motoman_config/updated_obj_urdf/robotiq_85/collision/robotiq_arg2f_85_inner_knuckle.stl" scale="0.001 0.001 0.001"/>
      </geometry>
    </collision>
    <inertial>
    <origin xyz="-0.00000000 0.02072093 0.02448419"/>
    <mass value="0.00002731"/>
    <inertia ixx="0.00000001" ixy="0.00000000" ixz="0.00000000" iyy="0.00000001" iyz="-0.00000000" izz="0.00000001"/>
    </inertial>
  </link>
  <!-- <joint name="finger_joint" type="revolute">
    <origin rpy="0 0 3.14159265359" xyz="0 -0.0306011 0.054904"/>
    <parent link="robotiq_arg2f_base_link"/>
    <child link="left_outer_knuckle"/>
    <axis xyz="1 0 0"/>
    <limit effort="1000" lower="0" upper="0.8" velocity="2.0"/>
  </joint> -->
  <joint name="finger_joint" type="fixed">
    <origin rpy="0 0 3.14159265359" xyz="0 -0.0306011 0.054904"/>
    <parent link="robotiq_arg2f_base_link"/>
    <child link="left_outer_knuckle"/>
    <axis xyz="1 0 0"/>
  </joint>

  <joint name="left_outer_finger_joint" type="fixed">
    <origin rpy="0 0 0" xyz="0 0.0315 -0.0041"/>
    <parent link="left_outer_knuckle"/>
    <child link="left_outer_finger"/>
    <axis xyz="1 0 0"/>
  </joint>
  <!-- <joint name="left_inner_knuckle_joint" type="revolute">
    <origin rpy="0 0 3.14159265359" xyz="0 -0.0127 0.06142"/>
    <parent link="robotiq_arg2f_base_link"/>
    <child link="left_inner_knuckle"/>
    <axis xyz="1 0 0"/>
    <limit effort="1000" lower="0" upper="0.8757" velocity="2.0"/>
    <mimic joint="finger_joint" multiplier="1" offset="0"/>
  </joint> -->
  <joint name="left_inner_knuckle_joint" type="fixed">
    <origin rpy="0 0 3.14159265359" xyz="0 -0.0127 0.06142"/>
    <parent link="robotiq_arg2f_base_link"/>
    <child link="left_inner_knuckle"/>
    <axis xyz="1 0 0"/>
    <!-- <mimic joint="finger_joint" multiplier="1" offset="0"/> -->
  </joint>


  <joint name="left_inner_finger_joint" type="fixed">
    <origin rpy="0 0 0" xyz="0 0.0061 0.0471"/>
    <parent link="left_outer_finger"/>
    <child link="left_inner_finger"/>
    <axis xyz="1 0 0"/>
    <!-- <mimic joint="finger_joint" multiplier="-1" offset="0"/> -->
  </joint>


  <!-- <joint name="left_inner_finger_joint" type="revolute">
    <origin rpy="0 0 0" xyz="0 0.0061 0.0471"/>
    <parent link="left_outer_finger"/>
    <child link="left_inner_finger"/>
    <axis xyz="1 0 0"/>
    <limit effort="1000" lower="-0.8757" upper="0" velocity="2.0"/>
    <mimic joint="finger_joint" multiplier="-1" offset="0"/>
  </joint> -->
  <joint name="left_inner_finger_pad_joint" type="fixed">
    <origin rpy="0 0 0" xyz="0 -0.0220203446692936 0.03242"/>
    <parent link="left_inner_finger"/>
    <child link="left_inner_finger_pad"/>
    <axis xyz="0 0 1"/>
  </joint>
  <joint name="right_outer_knuckle_joint" type="fixed">
    <origin rpy="0 0 0" xyz="0 0.0306011 0.054904"/>
    <parent link="robotiq_arg2f_base_link"/>
    <child link="right_outer_knuckle"/>
    <axis xyz="1 0 0"/>
    <!-- <mimic joint="finger_joint" multiplier="1" offset="0"/> -->
  </joint>
  <!-- <joint name="right_outer_knuckle_joint" type="revolute">
    <origin rpy="0 0 0" xyz="0 0.0306011 0.054904"/>
    <parent link="robotiq_arg2f_base_link"/>
    <child link="right_outer_knuckle"/>
    <axis xyz="1 0 0"/>
    <limit effort="1000" lower="0" upper="0.81" velocity="2.0"/>
    <mimic joint="finger_joint" multiplier="1" offset="0"/>
  </joint> -->
  <joint name="right_outer_finger_joint" type="fixed">
    <origin rpy="0 0 0" xyz="0 0.0315 -0.0041"/>
    <parent link="right_outer_knuckle"/>
    <child link="right_outer_finger"/>
    <axis xyz="1 0 0"/>
  </joint>
  <joint name="right_inner_knuckle_joint" type="fixed">
    <!-- <origin xyz="0 ${reflect * -0.0127} 0.06142" rpy="${pi / 2 + .725} 0 ${(reflect - 1) * pi / 2}" /> -->
    <origin rpy="0 0 0.0" xyz="0 0.0127 0.06142"/>
    <parent link="robotiq_arg2f_base_link"/>
    <child link="right_inner_knuckle"/>
    <axis xyz="1 0 0"/>
    <!-- <mimic joint="finger_joint" multiplier="1" offset="0"/> -->
  </joint>
  <!-- <joint name="right_inner_knuckle_joint" type="revolute">
    <origin rpy="0 0 0.0" xyz="0 0.0127 0.06142"/>
    <parent link="robotiq_arg2f_base_link"/>
    <child link="right_inner_knuckle"/>
    <axis xyz="1 0 0"/>
    <limit effort="1000" lower="0" upper="0.8757" velocity="2.0"/>
    <mimic joint="finger_joint" multiplier="1" offset="0"/>
  </joint> -->

  <joint name="right_inner_finger_joint" type="fixed">
    <origin rpy="0 0 0" xyz="0 0.0061 0.0471"/>
    <parent link="right_outer_finger"/>
    <child link="right_inner_finger"/>
    <axis xyz="1 0 0"/>
    <!-- <limit effort="1000" lower="-0.8757" upper="0" velocity="2.0"/> -->
    <!-- <mimic joint="finger_joint" multiplier="-1" offset="0"/> -->
  </joint>
<!-- 
  <joint name="right_inner_finger_joint" type="revolute">
    <origin rpy="0 0 0" xyz="0 0.0061 0.0471"/>
    <parent link="right_outer_finger"/>
    <child link="right_inner_finger"/>
    <axis xyz="1 0 0"/>
    <limit effort="1000" lower="-0.8757" upper="0" velocity="2.0"/>
    <mimic joint="finger_joint" multiplier="-1" offset="0"/>
  </joint> -->
  <joint name="right_inner_finger_pad_joint" type="fixed">
    <origin rpy="0 0 0" xyz="0 -0.0220203446692936 0.03242"/>
    <parent link="right_inner_finger"/>
    <child link="right_inner_finger_pad"/>
    <axis xyz="0 0 1"/>
  </joint>
  <transmission name="finger_joint_trans">
    <type>transmission_interface/SimpleTransmission</type>
    <joint name="finger_joint">
      <hardwareInterface>PositionJointInterface</hardwareInterface>
    </joint>
    <actuator name="finger_joint_motor">
      <mechanicalReduction>1</mechanicalReduction>
    </actuator>
  </transmission>


</robot>
